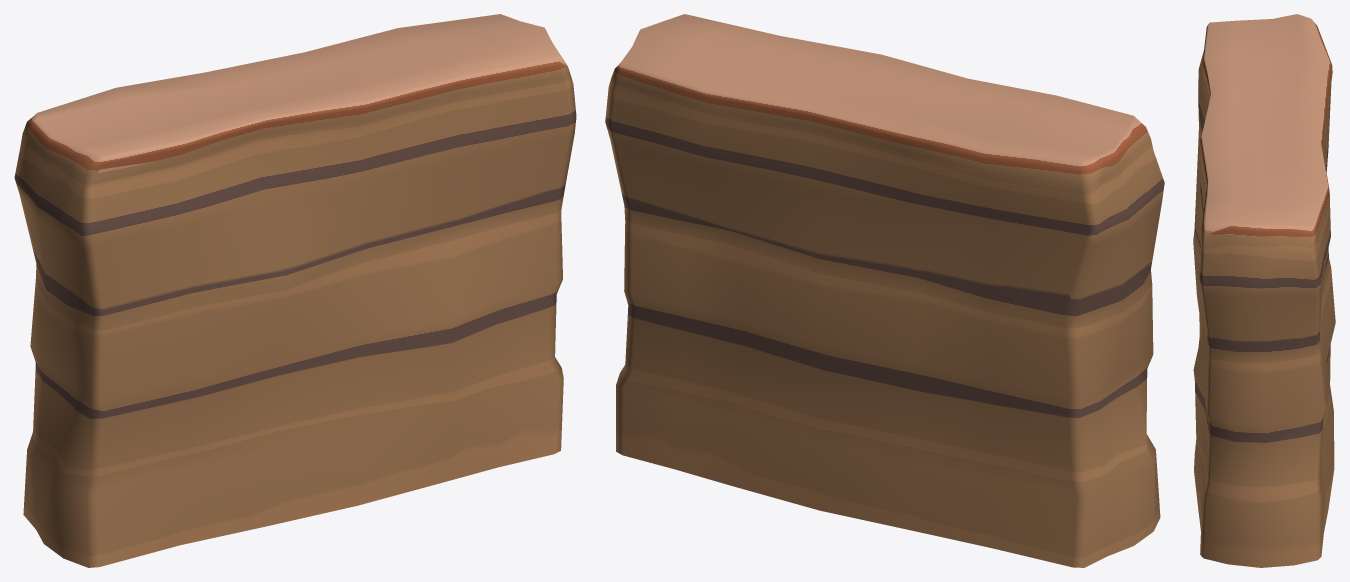
File: BO_Rock_4x3x1.fbx
The picture shows the model from 3 angles, left to right: view 1: azimuth 30°, elevation 25°; view 2: azimuth 150°, elevation 25°; view 3: azimuth 270°, elevation 25°; orthographic projection. The views are drawn at different scales.
Parts seen in each view (by area): view 1: Rock_4x3x1; view 2: Rock_4x3x1; view 3: Rock_4x3x1.
Boxes of the visible parts, box(x1,y1,x2,y2) form: Rock_4x3x1: box(14, 14, 576, 567); Rock_4x3x1: box(605, 14, 1164, 567); Rock_4x3x1: box(1193, 14, 1335, 567).
Size of the model in its own units: 412 by 310 by 115.
